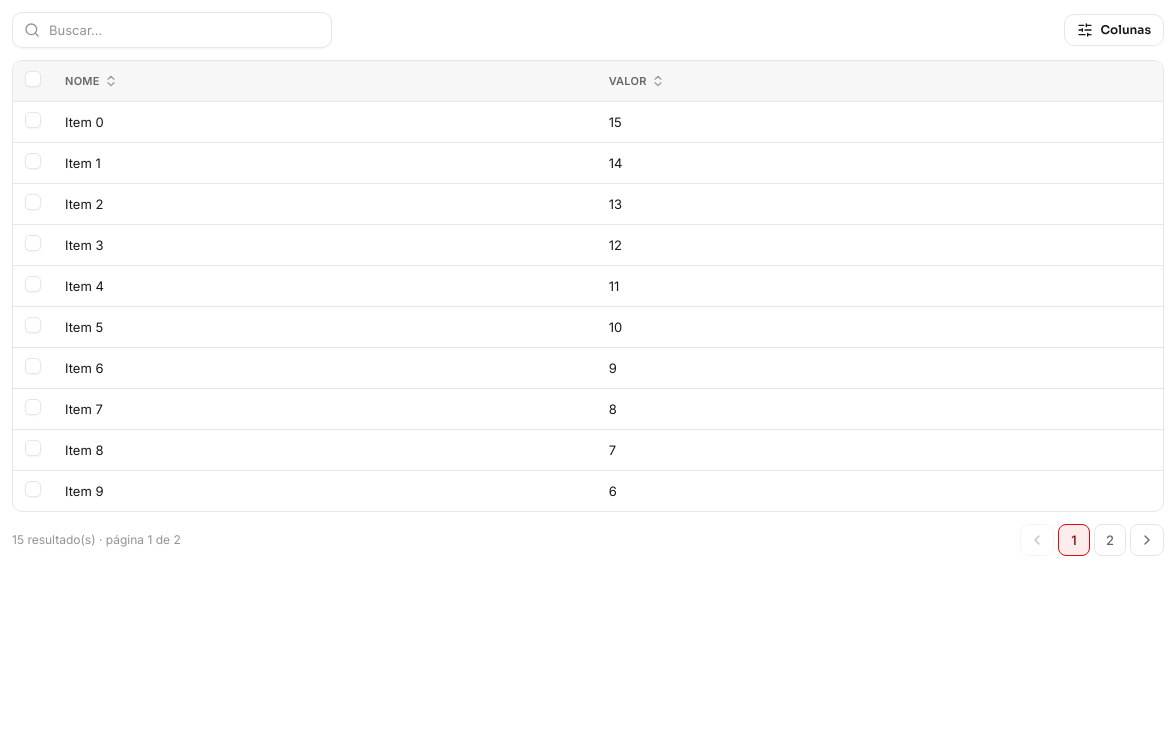
Scenario: DataTable › seleciona a página e mostra a barra de ações em massa
The width and height of the screenshot is (1176, 732).
Click the checkbox named "Selecionar página": (33, 79) [25,71,41,87]
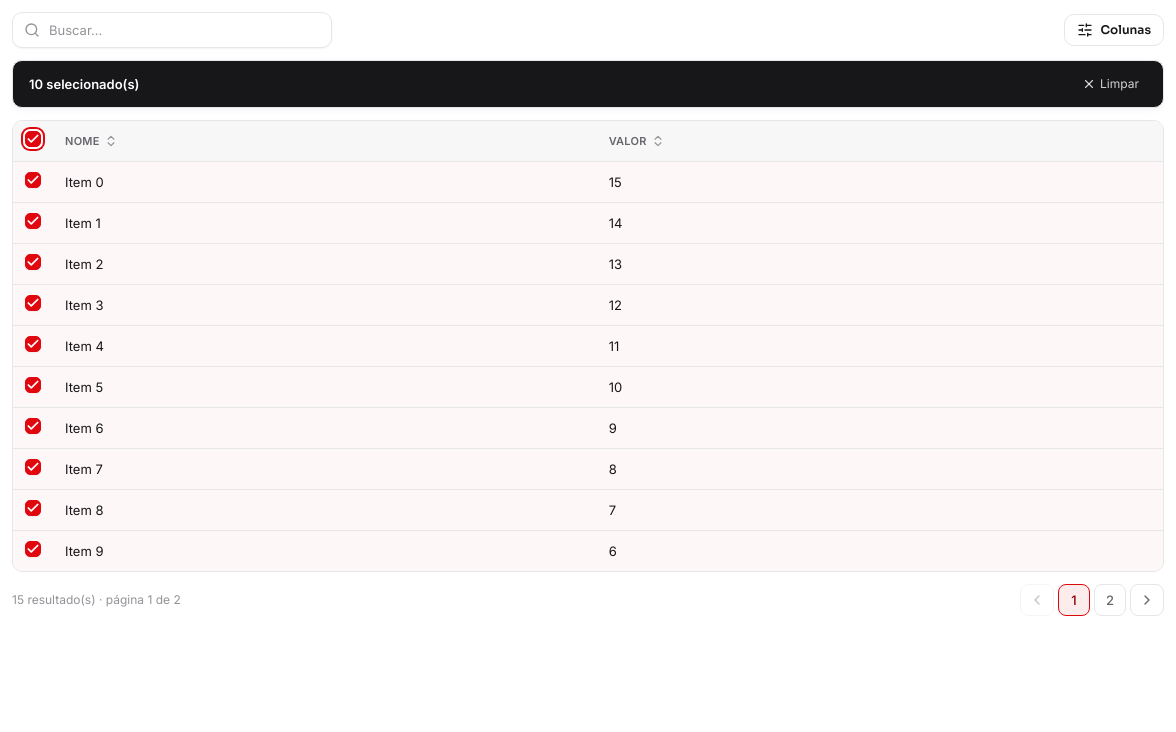
Check: the text "10 selecionado(s)" is shown, box [29,74,140,94]
